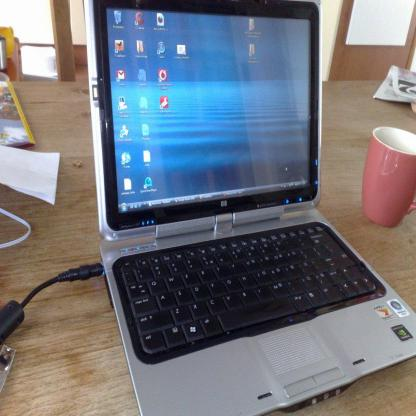board: (76, 5, 335, 310)
